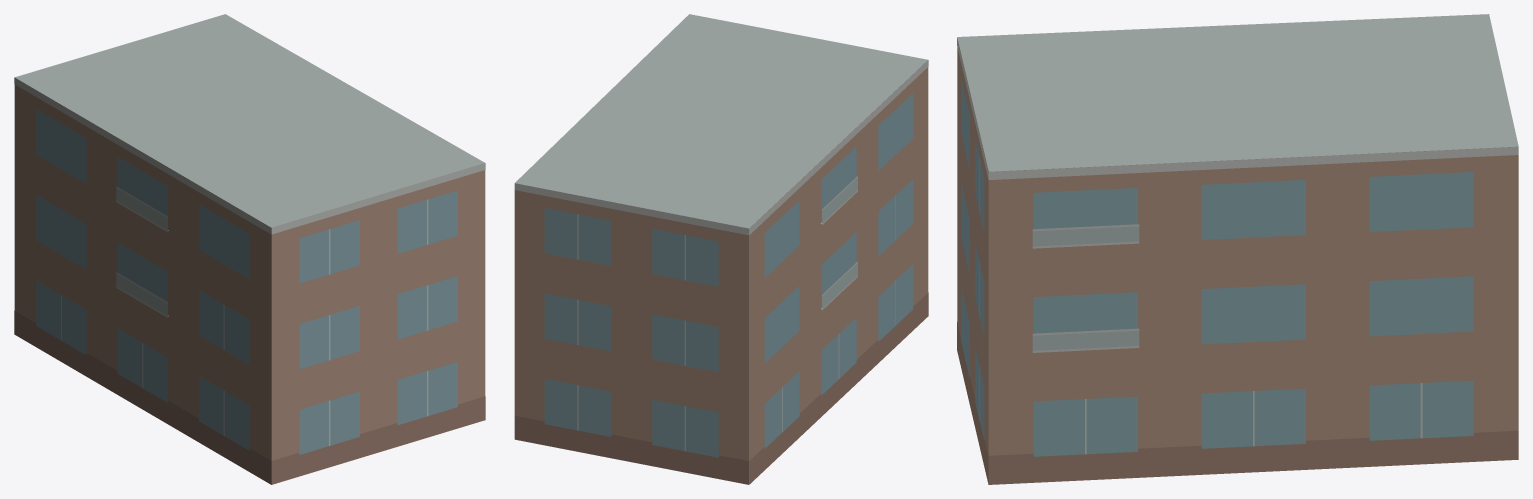
The model's file is survey-upis-32699411.glb.
The picture shows the model from 3 angles, left to right: view 1: azimuth 30°, elevation 25°; view 2: azimuth 150°, elevation 25°; view 3: azimuth 270°, elevation 25°; orthographic projection. The views are drawn at different scales.
Visible parts, largest first — view 1: survey-upis-32699411.tmp; view 2: survey-upis-32699411.tmp; view 3: survey-upis-32699411.tmp.
Part boxes in pixels (x1,y1,x2,y2): survey-upis-32699411.tmp: (14, 14, 485, 484); survey-upis-32699411.tmp: (514, 14, 928, 484); survey-upis-32699411.tmp: (957, 14, 1518, 484).
Bounding box in the file's own units: 9.9 × 9.15 × 14.89.
